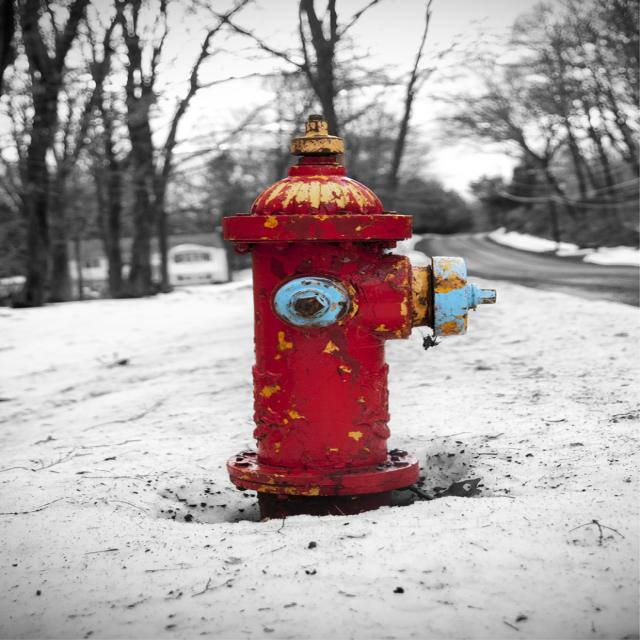fire_hydrant: (217, 116, 492, 516)
